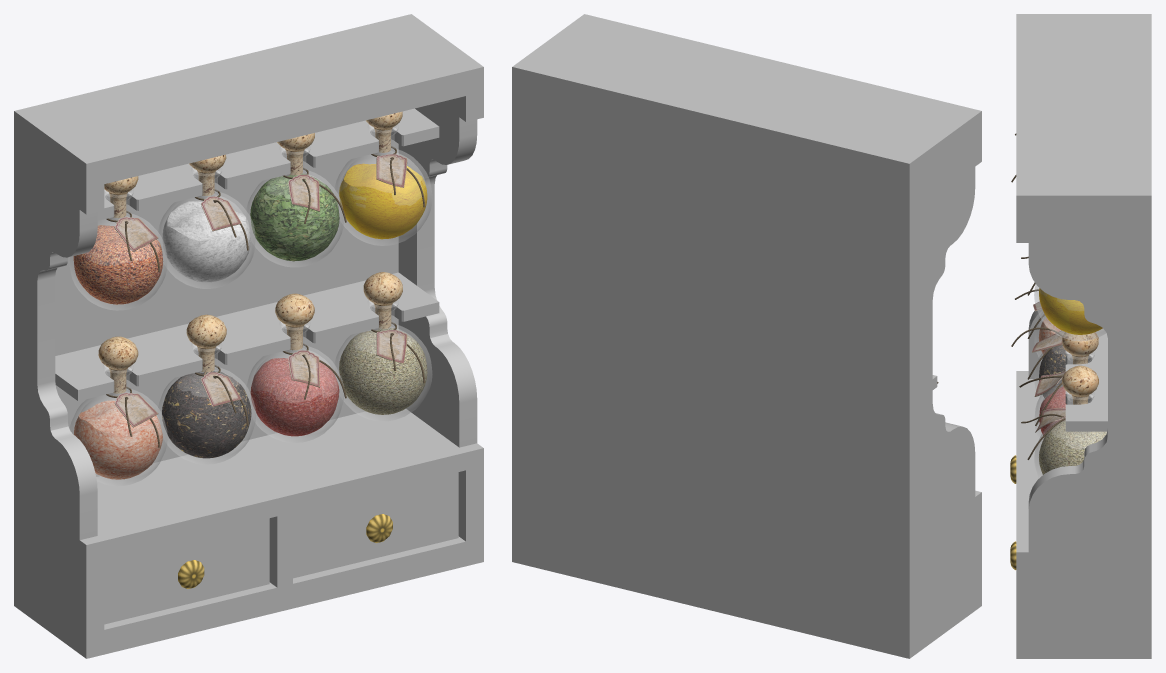
3 views of the same model, side by side, from view 1: azimuth 30°, elevation 25°; view 2: azimuth 150°, elevation 25°; view 3: azimuth 270°, elevation 25° (orthographic). The views are drawn at different scales.
Visible parts, largest first — view 1: g_cabinet, g_bottle (×8), g_shelf, g_drawer1, g_drawer, g_shelf1, g_cork (×8), g_tea, g_oregano, g_fennel, g_salt, g_redpepper (+7 smaller); view 2: g_cabinet; view 3: g_cabinet, g_bottle (×5), g_shelf, g_fennel, g_cork (×2), g_yellowpowder, g_tea, g_redpepper, g_label2, g_label1, g_label3, g_pinksalt.
Part boxes in pixels (x1,y1,x2,y2): g_cabinet: (14,14,483,658); g_bottle (×8): (69,124,432,485); g_shelf: (55,272,439,401); g_drawer1: (293,472,458,578); g_drawer: (104,518,269,624); g_shelf1: (97,108,439,220); g_cork (×8): (98,111,402,393); g_tea: (162,371,251,458); g_oregano: (250,173,339,261); g_fennel: (339,328,427,414); g_salt: (162,201,250,282); g_redpepper: (250,358,339,436); g_cabinet: (512,14,981,658); g_cabinet: (1016,14,1151,658); g_bottle (×5): (1034,284,1106,477); g_shelf: (1065,328,1107,431); g_fennel: (1039,420,1106,474); g_cork (×2): (1062,332,1098,404); g_yellowpowder: (1039,288,1102,334); g_tea: (1039,345,1066,397); g_redpepper: (1039,386,1066,434); g_label2: (1034,371,1065,396); g_label1: (1032,330,1064,352); g_label3: (1035,408,1065,432); g_pinksalt: (1038,318,1060,354).
Bounding box in the file's own units: 0.45 × 0.5357 × 0.1478.
